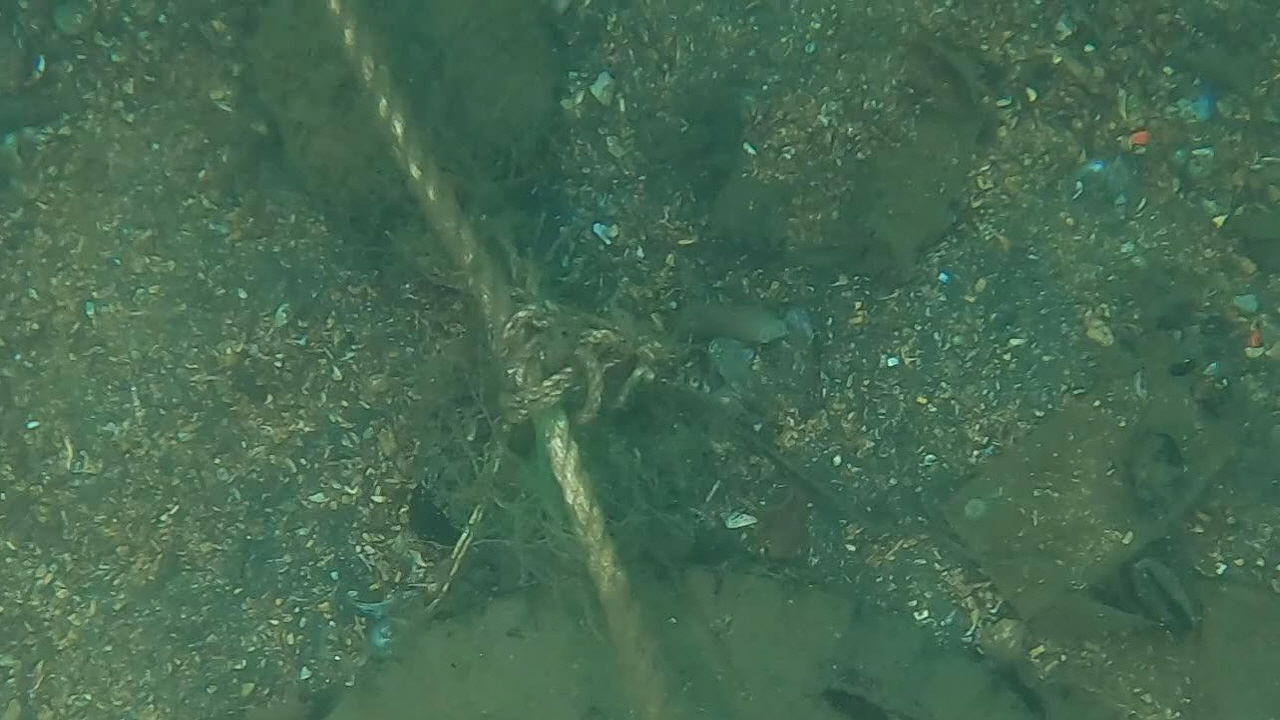bundle of ropes: (326, 0, 695, 720)
